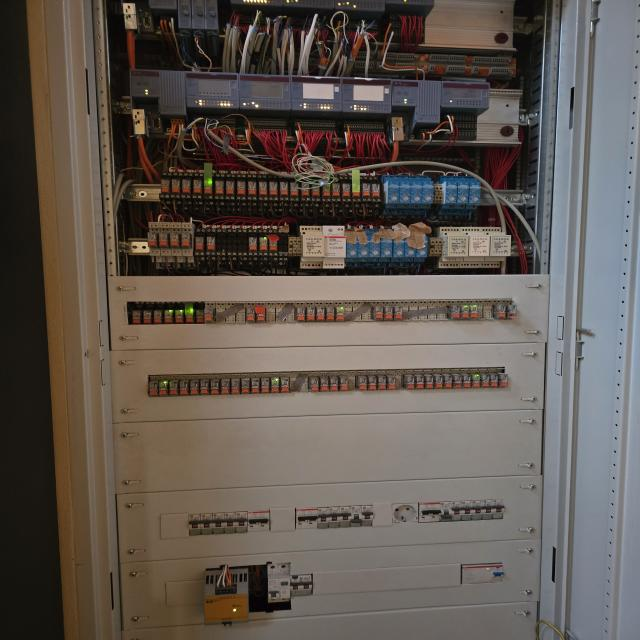Dimmer: (438, 227, 469, 268), (480, 227, 511, 268), (460, 227, 490, 268), (322, 226, 346, 269), (300, 226, 324, 268), (460, 176, 481, 215), (438, 176, 457, 215), (450, 176, 469, 215), (381, 175, 399, 215), (392, 175, 410, 215), (404, 175, 422, 215), (415, 175, 433, 215), (356, 231, 369, 262), (367, 232, 380, 262), (344, 236, 358, 262), (414, 236, 428, 262), (379, 238, 393, 262), (402, 238, 416, 262), (391, 238, 404, 262)
FI: (461, 563, 504, 584)
FI_Sicherungskombi: (267, 563, 290, 603)
Leitungsschutzschalter: (349, 506, 362, 527), (300, 574, 312, 596), (189, 514, 201, 536), (224, 512, 236, 534), (339, 506, 351, 528), (201, 514, 213, 535), (212, 513, 224, 534), (247, 510, 259, 531), (295, 508, 307, 529), (317, 507, 329, 528), (361, 505, 373, 526), (236, 511, 247, 533), (471, 500, 483, 520), (290, 575, 301, 596), (259, 510, 270, 531), (328, 507, 339, 528), (451, 501, 462, 522), (307, 508, 318, 528), (419, 503, 430, 523), (440, 502, 451, 522), (461, 501, 472, 521), (482, 500, 493, 520), (493, 499, 504, 519), (430, 502, 440, 522)
Relais: (492, 303, 507, 319), (267, 234, 279, 252), (448, 304, 461, 319), (181, 231, 192, 248), (159, 230, 169, 248), (148, 230, 158, 248), (255, 305, 265, 322), (373, 305, 383, 321), (169, 380, 179, 396), (269, 181, 278, 198), (214, 180, 224, 195), (225, 180, 235, 195), (184, 307, 194, 322), (204, 308, 214, 323), (246, 307, 256, 322), (404, 374, 414, 389), (358, 375, 368, 390), (182, 179, 191, 195), (237, 180, 246, 196), (279, 181, 288, 197), (248, 180, 257, 196), (259, 236, 268, 252), (248, 236, 257, 252), (170, 232, 179, 248), (149, 381, 158, 397), (159, 380, 168, 396), (300, 183, 310, 197), (384, 306, 394, 320), (452, 374, 462, 388), (471, 373, 481, 387), (371, 183, 380, 198), (362, 183, 371, 198), (342, 183, 351, 198), (331, 183, 340, 198), (290, 182, 299, 197), (153, 309, 162, 324), (335, 306, 344, 321), (306, 307, 315, 322), (190, 380, 199, 395), (200, 379, 209, 394), (221, 379, 230, 394), (271, 377, 280, 392), (261, 378, 270, 393), (251, 378, 260, 393), (241, 378, 250, 393), (310, 377, 319, 392), (320, 376, 329, 391), (444, 374, 453, 389), (435, 374, 444, 389), (425, 374, 434, 389), (415, 374, 424, 389), (368, 375, 377, 390), (352, 182, 360, 198), (259, 181, 267, 197), (470, 303, 478, 319), (180, 380, 188, 396), (211, 379, 219, 395), (193, 179, 202, 193), (195, 236, 204, 250), (132, 310, 141, 324), (164, 309, 173, 323), (175, 309, 184, 323), (326, 307, 335, 321), (316, 307, 325, 321), (507, 304, 516, 318), (378, 376, 387, 390), (499, 373, 508, 387), (172, 179, 180, 194), (204, 179, 212, 194), (143, 309, 151, 324), (461, 304, 469, 319), (231, 379, 239, 394), (281, 377, 289, 392), (330, 376, 338, 391), (340, 376, 348, 391), (462, 374, 471, 387), (161, 179, 169, 193), (323, 184, 331, 198), (207, 236, 215, 250), (297, 308, 305, 322), (394, 306, 402, 320), (388, 375, 396, 389), (490, 373, 498, 387), (481, 373, 489, 387), (196, 310, 204, 323), (312, 186, 320, 198)
SPS_System_Steuerungskomponente: (186, 71, 239, 108), (239, 73, 291, 110), (291, 75, 342, 111), (342, 77, 392, 113), (130, 69, 186, 98), (392, 79, 442, 107), (441, 81, 489, 109)
Verbinder: (288, 237, 301, 256), (429, 238, 442, 256), (433, 184, 443, 204)
